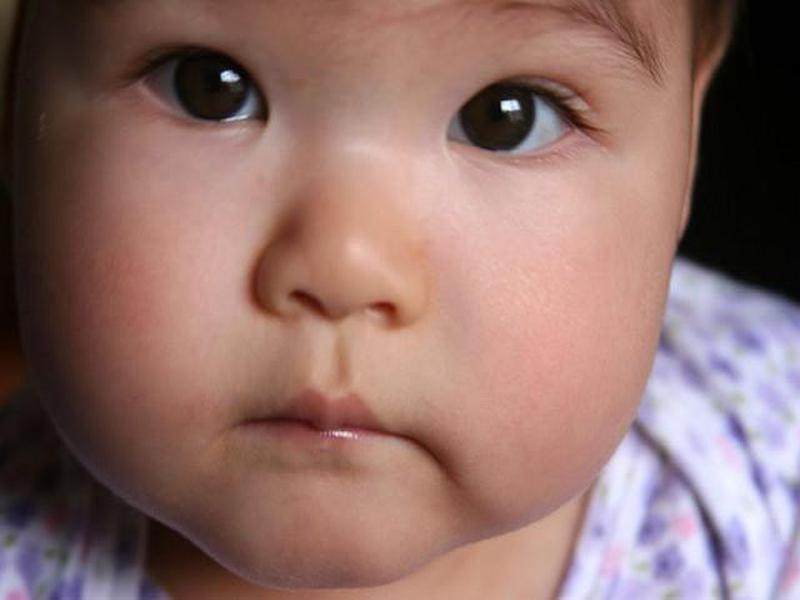person: (7, 1, 796, 597)
